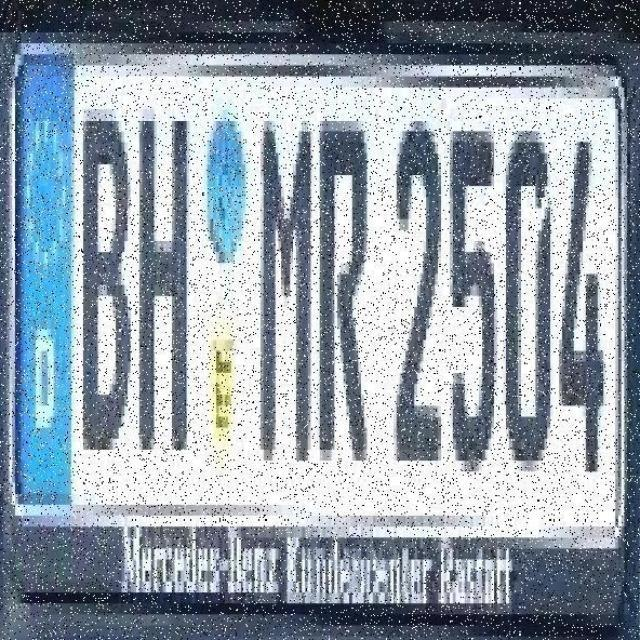license-plate: (1, 47, 611, 610)
